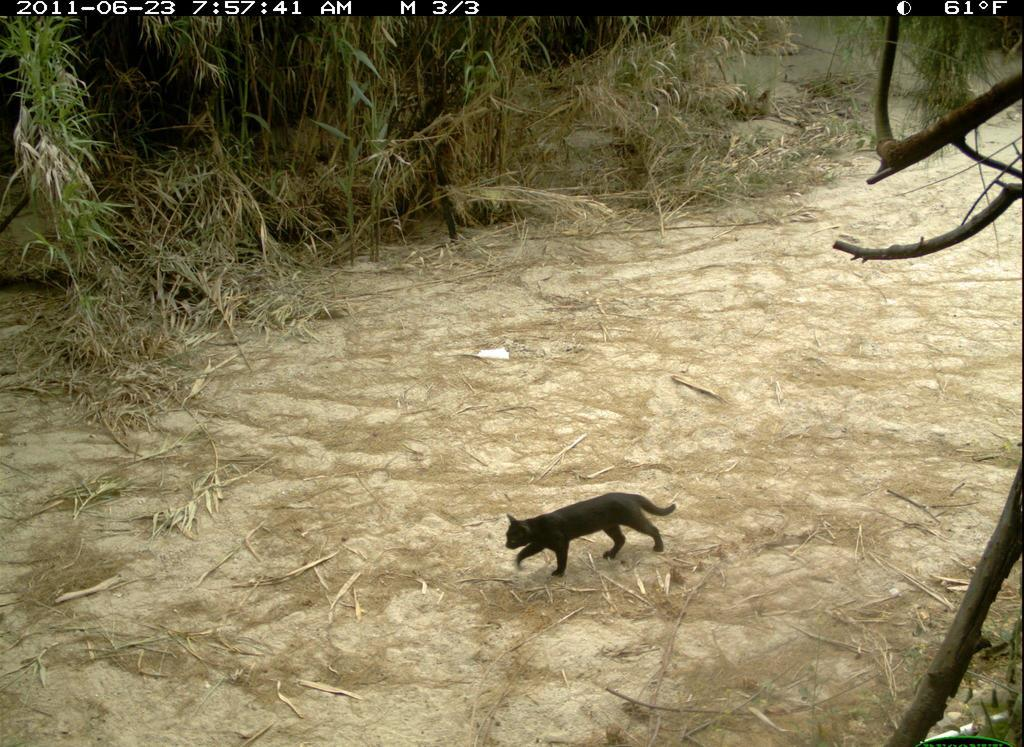cat: (492, 477, 687, 575)
